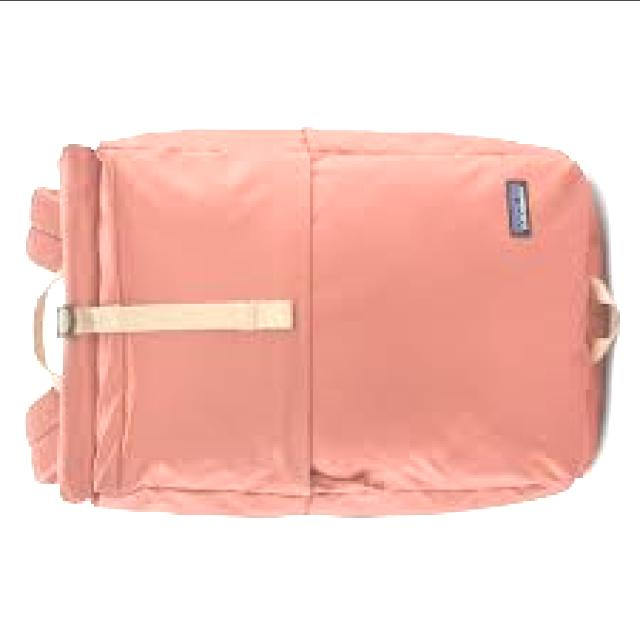backpack: (21, 127, 619, 521)
